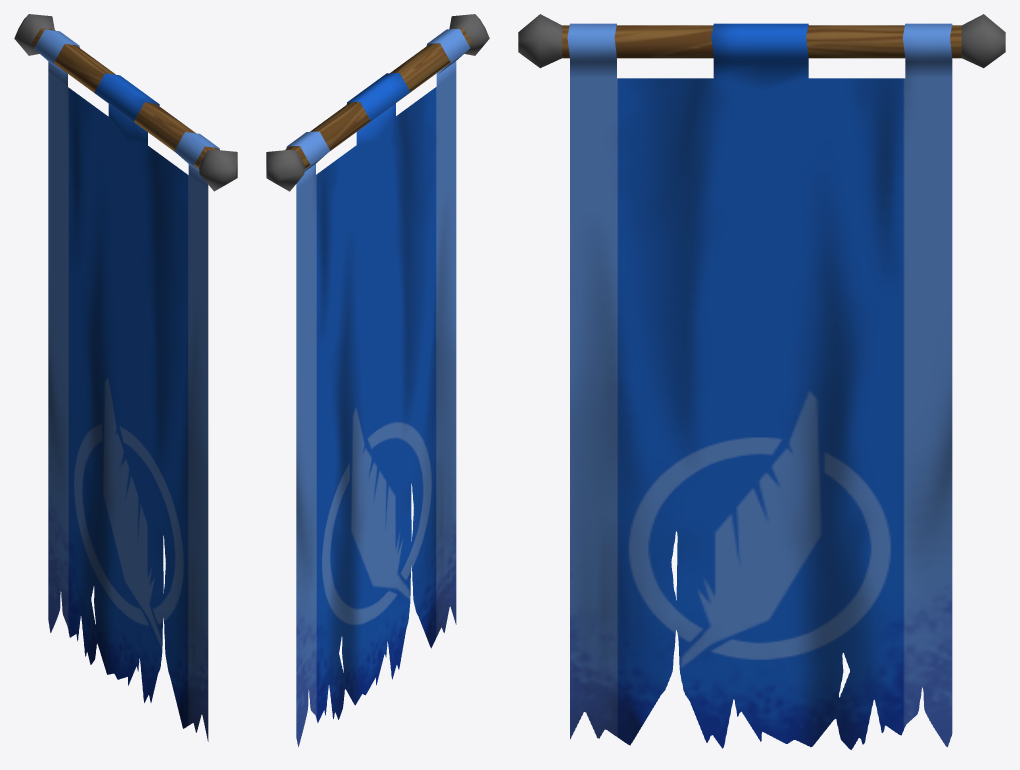
File: Flag1.FBX
3 views of the same model, side by side, from view 1: azimuth 30°, elevation 25°; view 2: azimuth 150°, elevation 25°; view 3: azimuth 270°, elevation 25° (orthographic). The views are drawn at different scales.
Visible parts, largest first — view 1: Standard_Flag_001; view 2: Standard_Flag_001; view 3: Standard_Flag_001.
Part boxes in pixels (box(x1,y1,x2,y2)): Standard_Flag_001: box(14, 14, 237, 741); Standard_Flag_001: box(266, 14, 489, 746); Standard_Flag_001: box(518, 14, 1005, 749).
Size of the model in its own units: 2.39 by 37.06 by 22.18.
